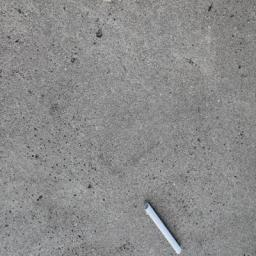FOD: (143, 202, 184, 255)
